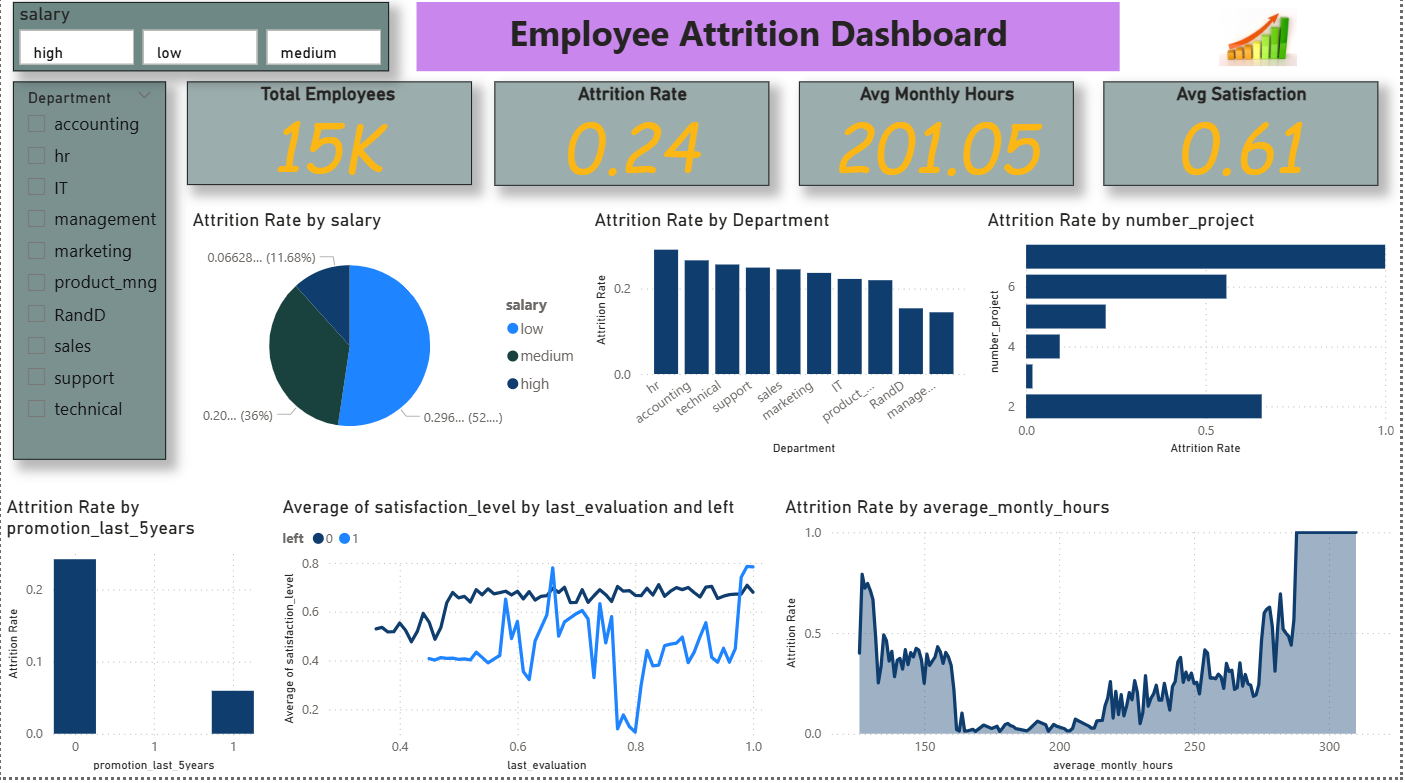

The page's visual inventory and layout, read from the dashboard file:
{"tool":"powerbi","page":{"name":"Page 1","canvas":[1280,720],"ordinal":0},"visuals":[{"type":"textbox","box":[380.1,10.6,643.5,63.6],"z":0},{"type":"card","title":"Avg Satisfaction","fields":{"Values":["HR_ATT.Avg Satisfaction"]},"box":[1008.5,83.3,251.4,95.4],"z":1000},{"type":"card","title":"Avg Monthly Hours","fields":{"Values":["HR_ATT.Avg Monthly Hours"]},"box":[729.8,83.3,251.4,95.4],"z":2000},{"type":"card","title":"Attrition Rate","fields":{"Values":["HR_ATT.Attrition Rate"]},"box":[451.2,83.3,251.4,95.4],"z":3000},{"type":"card","title":"Total Employees","fields":{"Values":["HR_ATT.Total Employees"]},"box":[170.2,83.7,260.7,94.7],"z":4000},{"type":"columnChart","fields":{"Category":["HR_ATT.Department"],"Y":["HR_ATT.Attrition Rate"]},"box":[537.5,199.9,349.8,228.6],"z":5000},{"type":"barChart","fields":{"Y":["HR_ATT.Attrition Rate"],"Category":["HR_ATT.number_project"]},"box":[897.5,200.4,381.5,229.2],"z":6000},{"type":"areaChart","fields":{"Category":["HR_ATT.average_montly_hours"],"Y":["HR_ATT.Attrition Rate"]},"box":[712.2,462.5,566.8,256.6],"z":7000},{"type":"lineChart","fields":{"Category":["HR_ATT.last_evaluation"],"Y":["Avg(HR_ATT.satisfaction_level)"],"Series":["HR_ATT.left"]},"box":[252.5,462.5,450.1,256.6],"z":8000},{"type":"pieChart","fields":{"Y":["HR_ATT.Attrition Rate"],"Category":["HR_ATT.salary"]},"box":[169.6,199.9,368,230.2],"z":9000},{"type":"clusteredColumnChart","fields":{"Y":["HR_ATT.Attrition Rate"],"Category":["HR_ATT.promotion_last_5years"]},"box":[0,462.5,236,256.6],"z":10000},{"type":"slicer","fields":{"Values":["HR_ATT.Department"]},"box":[11,83.7,140,345.8],"z":11000},{"type":"advancedSlicerVisual","fields":{"Values":["HR_ATT.salary"]},"box":[10.6,10.6,343.7,63.6],"z":12000},{"type":"image","box":[1022.1,10.6,255.9,63.6],"z":12001}]}

Visuals, with their boxes in screenshot pixels (x1, y1, x2, y2), scaled from the page's 1280x720 canvas onto the 1405x783 screenshot:
textbox: bbox(417, 12, 1124, 81)
"Avg Satisfaction" card: bbox(1107, 91, 1383, 194)
"Avg Monthly Hours" card: bbox(801, 91, 1077, 194)
"Attrition Rate" card: bbox(495, 91, 771, 194)
"Total Employees" card: bbox(187, 91, 473, 194)
columnChart - HR_ATT.Department x HR_ATT.Attrition Rate: bbox(590, 217, 974, 466)
barChart - HR_ATT.Attrition Rate x HR_ATT.number_project: bbox(985, 218, 1404, 467)
areaChart - HR_ATT.average_montly_hours x HR_ATT.Attrition Rate: bbox(782, 503, 1404, 782)
lineChart - HR_ATT.last_evaluation x Avg(HR_ATT.satisfaction_level): bbox(277, 503, 771, 782)
pieChart - HR_ATT.Attrition Rate x HR_ATT.salary: bbox(186, 217, 590, 468)
clusteredColumnChart - HR_ATT.Attrition Rate x HR_ATT.promotion_last_5years: bbox(0, 503, 259, 782)
slicer - HR_ATT.Department: bbox(12, 91, 166, 467)
advancedSlicerVisual - HR_ATT.salary: bbox(12, 12, 389, 81)
image: bbox(1122, 12, 1403, 81)
